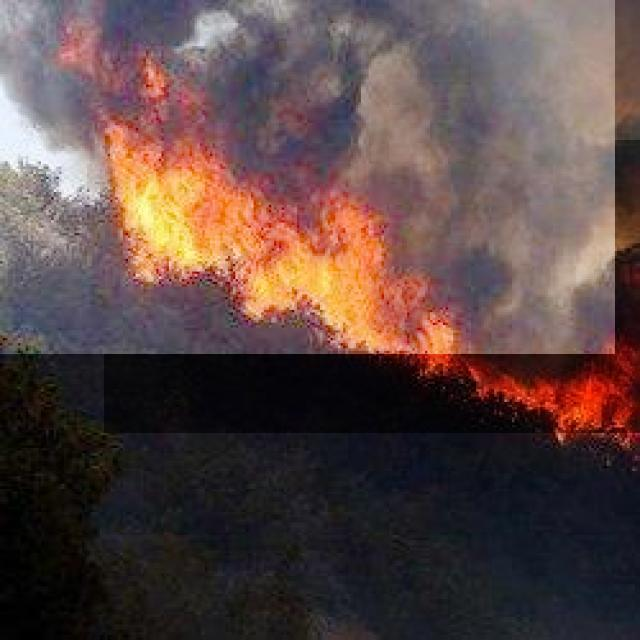Fire: (104, 140, 640, 433)
Smoke: (0, 0, 615, 354)
